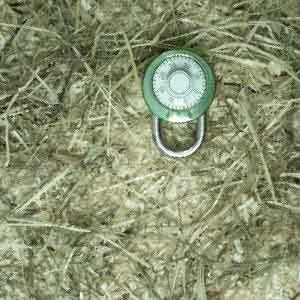lock: (141, 47, 218, 160)
